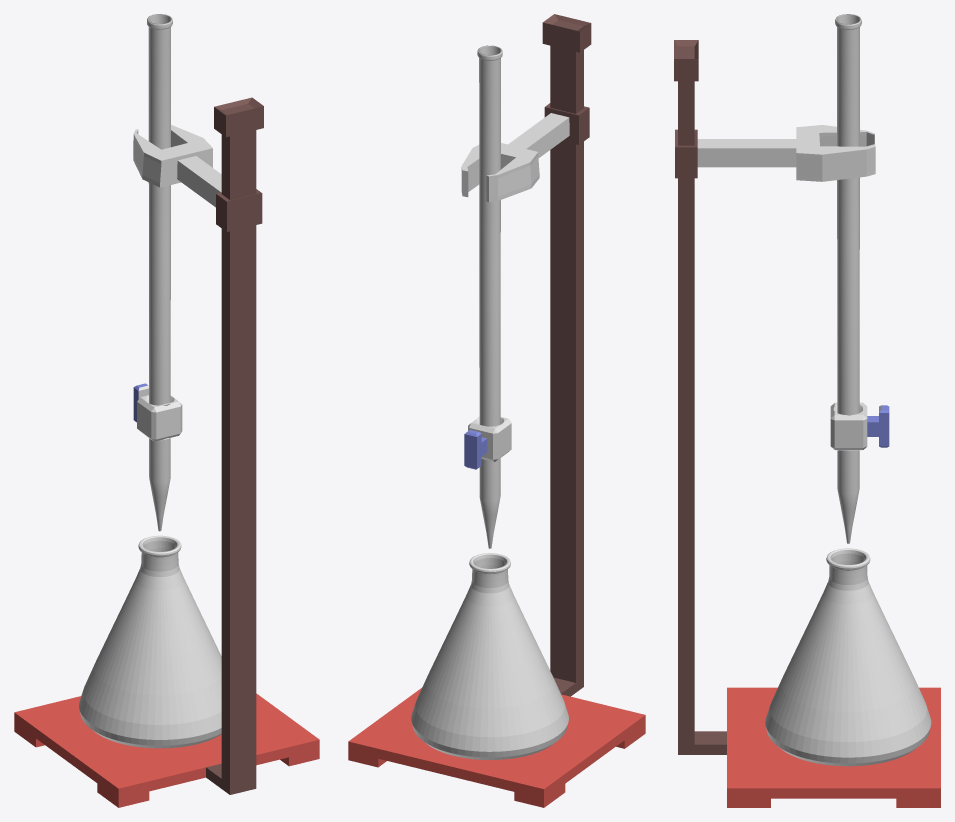
Rendered from re Full.fbx.
3 renders of one model, left to right at view 1: azimuth 30°, elevation 25°; view 2: azimuth 150°, elevation 25°; view 3: azimuth 270°, elevation 25°, orthographic. The views are drawn at different scales.
Parts seen in each view (by area): view 1: Stand, fLASK, Buretter, Cube; view 2: Stand, fLASK, Buretter, Cube; view 3: Stand, fLASK, Buretter, Cube.
Boxes of the visible parts, x1,y1,x2,y2 form: Stand: [14, 97, 319, 807]; fLASK: [79, 535, 221, 748]; Buretter: [147, 14, 172, 531]; Cube: [133, 383, 182, 441]; Stand: [348, 14, 645, 807]; fLASK: [411, 553, 568, 759]; Buretter: [477, 45, 502, 548]; Cube: [464, 416, 511, 469]; Stand: [674, 40, 940, 807]; fLASK: [765, 548, 931, 766]; Buretter: [835, 14, 861, 543]; Cube: [830, 402, 889, 450].
Bounding box in the file's own units: 91.66 × 314 × 103.
